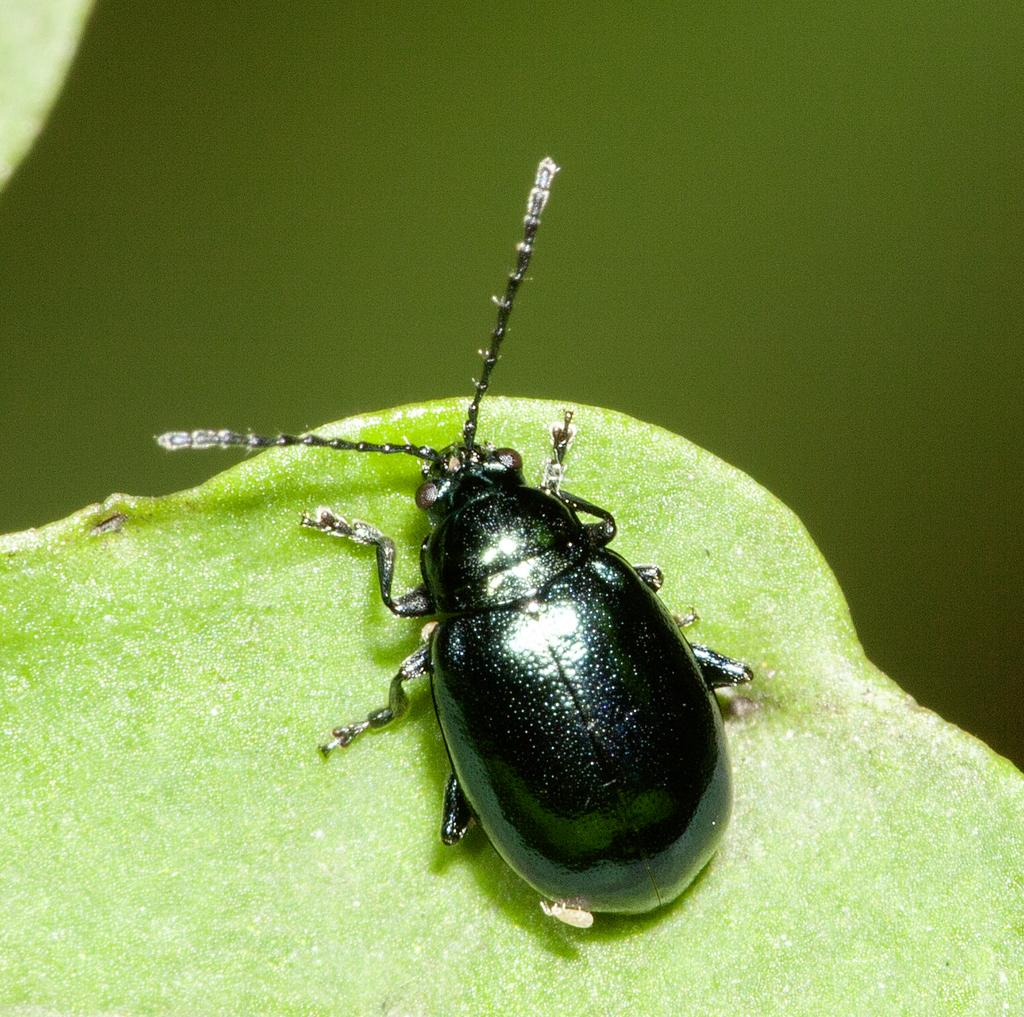flea_beetle: (106, 79, 905, 1005)
